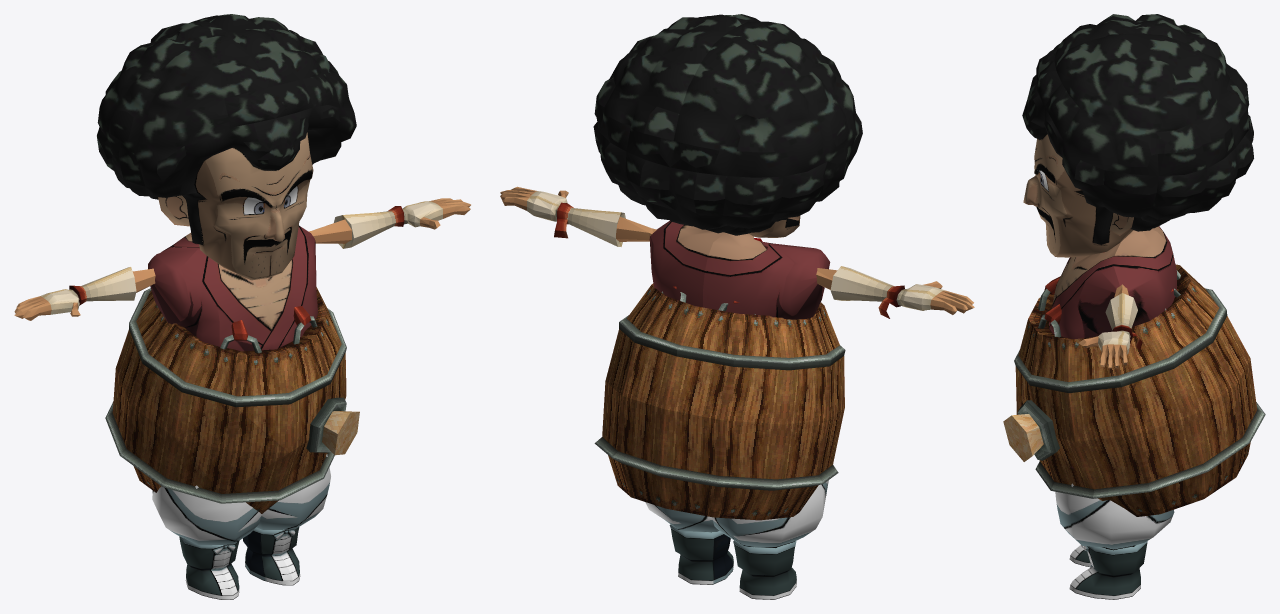
File: gambler-lod0.glb
The picture shows the model from 3 angles, left to right: view 1: azimuth 30°, elevation 25°; view 2: azimuth 150°, elevation 25°; view 3: azimuth 270°, elevation 25°; orthographic projection. The views are drawn at different scales.
Visible parts, largest first — view 1: MSN_avt, gambler-lod0; view 2: MSN_avt, gambler-lod0; view 3: MSN_avt, gambler-lod0.
Boxes of the visible parts, <box> form: MSN_avt: <box>97,14,356,599</box>; gambler-lod0: <box>14,198,470,513</box>; MSN_avt: <box>593,14,862,599</box>; gambler-lod0: <box>500,186,974,520</box>; MSN_avt: <box>1022,14,1253,599</box>; gambler-lod0: <box>1003,264,1265,516</box>.
Bounding box in the file's own units: 3.36 × 3.81 × 1.67.
11 materials, 11 textured.
